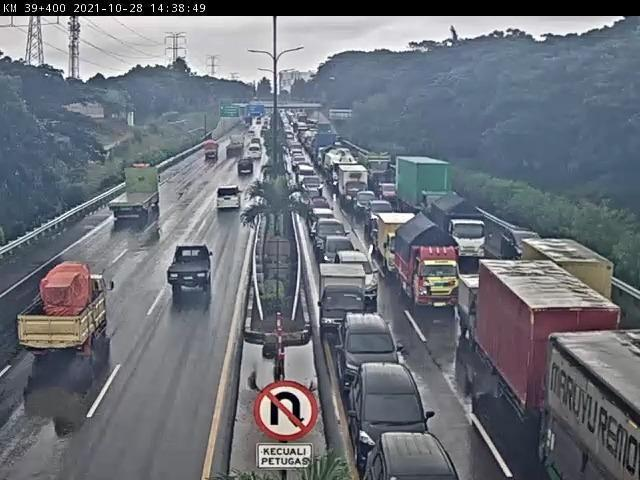bus: (244, 148, 262, 164)
car: (350, 366, 437, 465), (336, 315, 400, 399), (365, 434, 462, 480), (337, 253, 382, 303), (321, 237, 362, 278), (504, 229, 547, 266), (313, 220, 351, 259), (368, 200, 396, 232), (217, 185, 246, 211), (311, 208, 336, 238), (357, 193, 378, 218), (236, 159, 255, 176)
truck: (480, 260, 627, 447), (18, 262, 117, 360), (521, 239, 613, 343), (395, 217, 464, 314), (460, 275, 523, 352), (392, 155, 452, 224), (318, 262, 370, 338), (429, 193, 487, 258), (104, 163, 163, 224), (378, 213, 421, 278), (167, 245, 216, 294), (340, 166, 370, 208), (225, 137, 246, 162), (202, 143, 221, 165)
